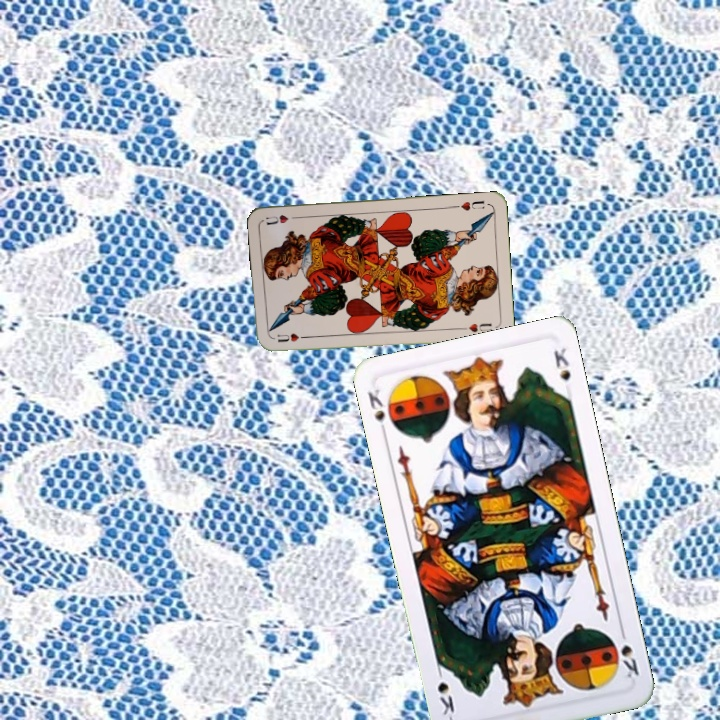HU: (450, 196, 487, 213), (273, 329, 302, 344)
SK: (363, 384, 390, 440), (616, 624, 642, 682)
